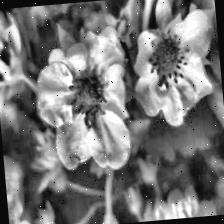Blossom Blight: (143, 26, 194, 91)
